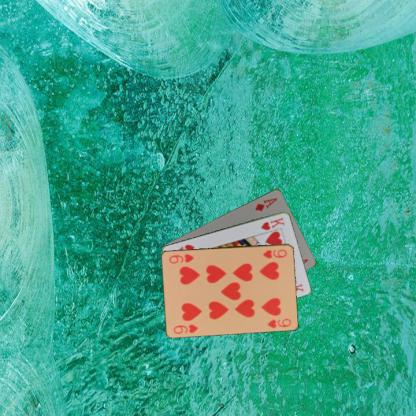9h: (171, 321, 199, 335), (260, 247, 288, 259)
Ad: (252, 195, 278, 212)
Kh: (258, 214, 286, 231)
